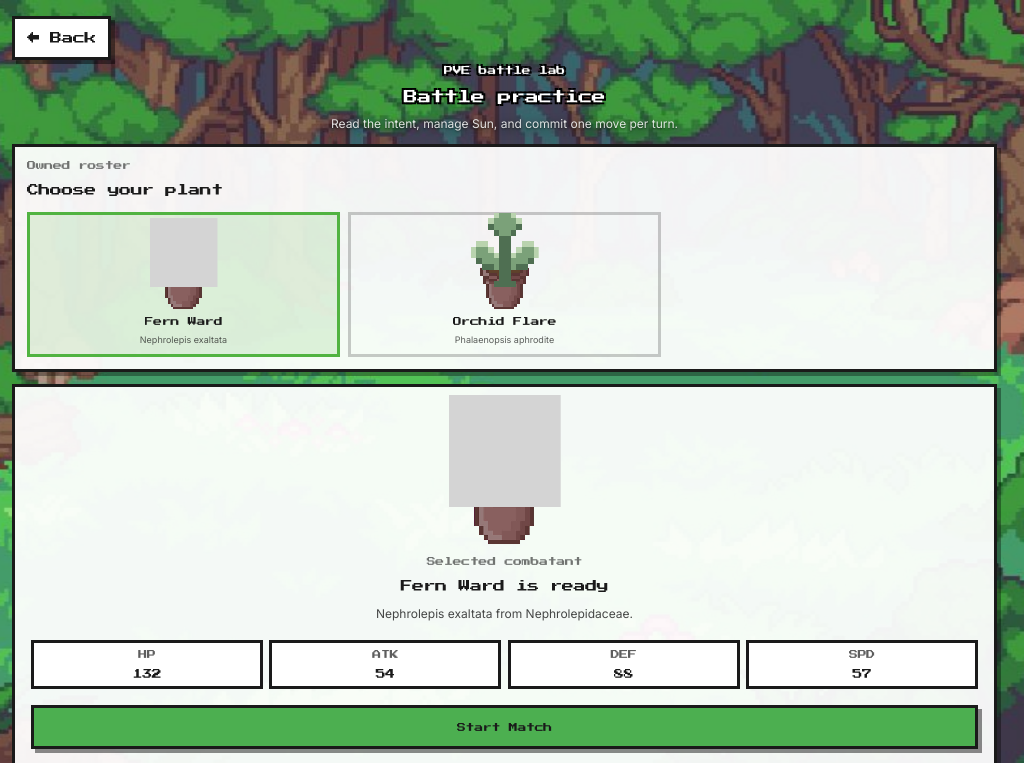
it: BattlePage › retries a failed battle start without losing the selection
Click the button "Start Match" at (504, 727), box [31,705,978,749]
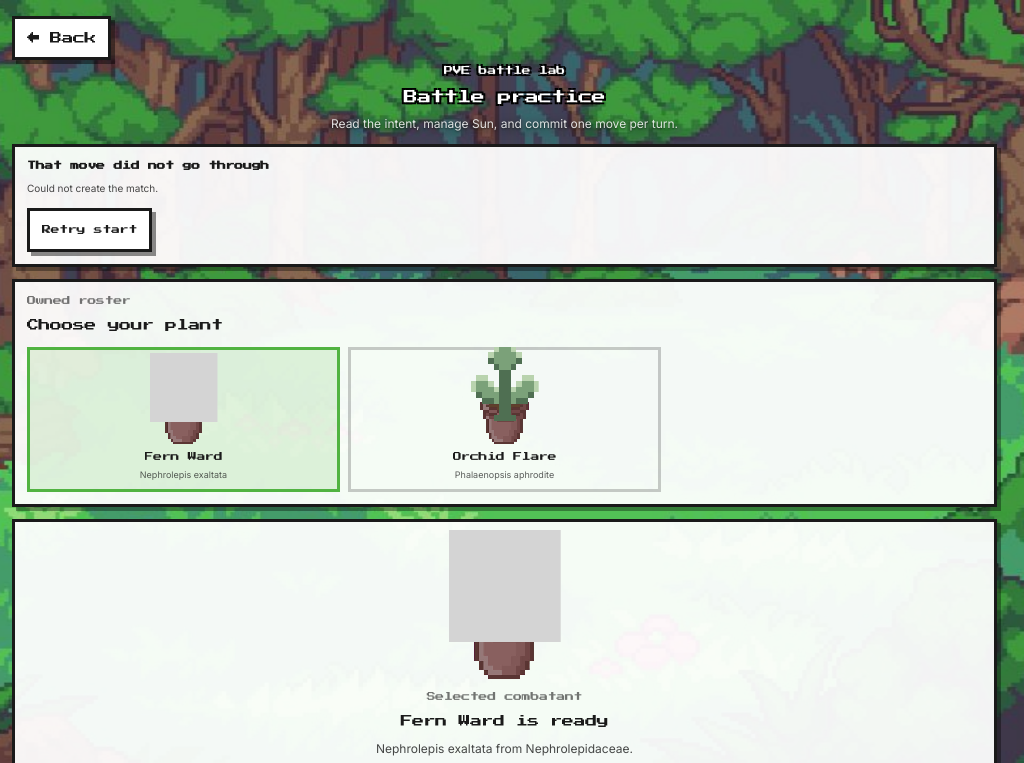
Expected: the heading "Fern Ward is ready" is shown, [401,715,608,727]
Result: the message shows "Could not create the match." at [27,182,158,194]
Click the button "Retry start" at (90, 230), box [27,208,152,252]
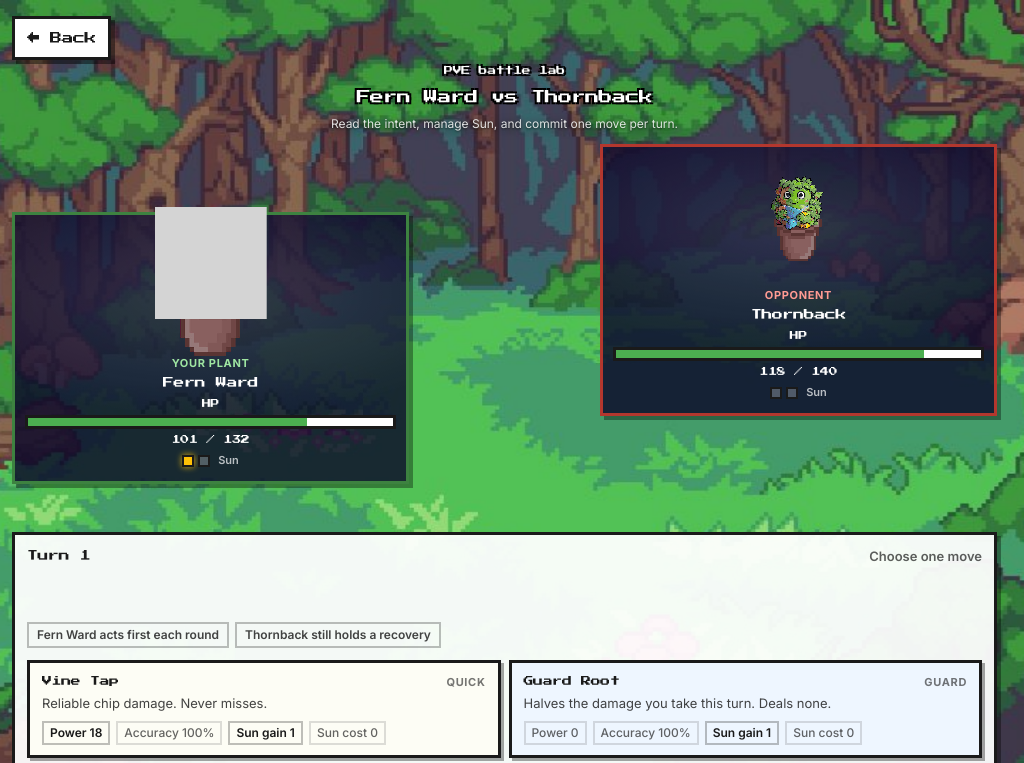
Result: the heading "Turn 1" is shown at [27,548,90,564]
